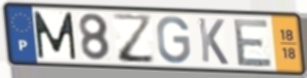8: (77, 12, 112, 63)
E: (232, 18, 275, 68)
G: (155, 14, 193, 66)
K: (196, 16, 231, 67)
M: (31, 10, 79, 61)
Z: (111, 12, 158, 66)
